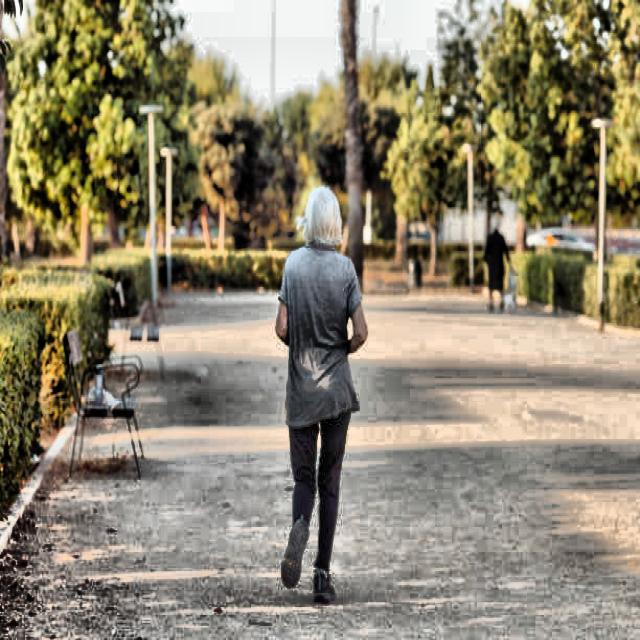Human: (258, 175, 372, 640)
